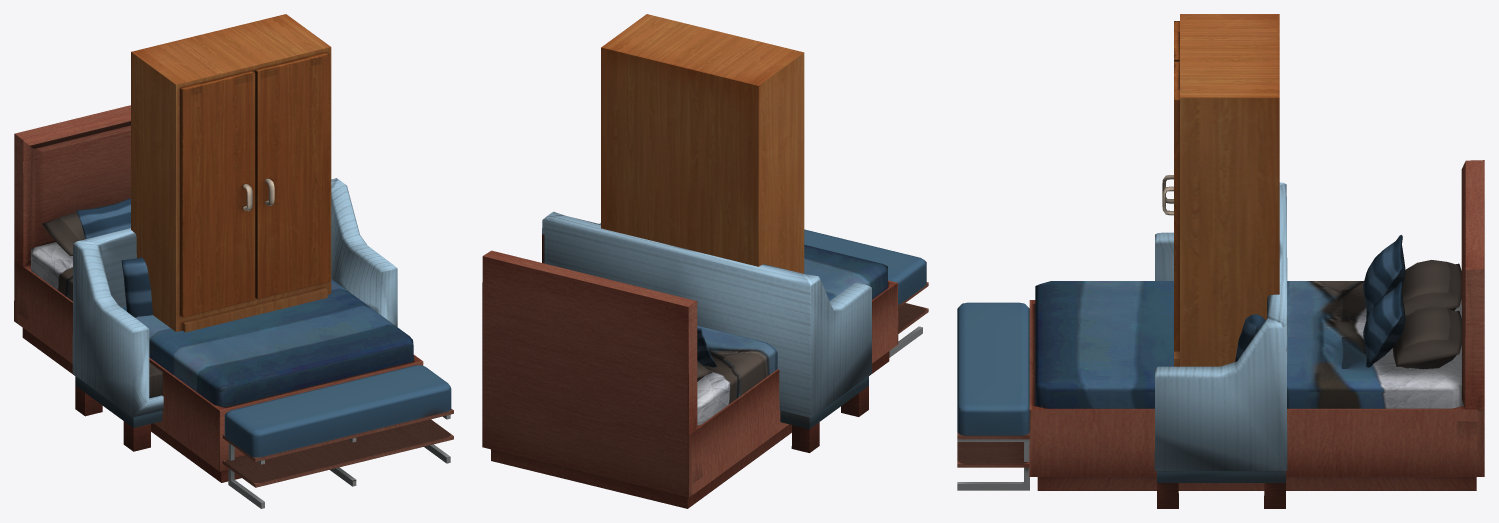
Rendered from fbx_furniiture_set02.fbx.
The picture shows the model from 3 angles, left to right: view 1: azimuth 30°, elevation 25°; view 2: azimuth 150°, elevation 25°; view 3: azimuth 270°, elevation 25°; orthographic projection. The views are drawn at different scales.
Visible parts, largest first — view 1: furniture_bedRoom_bed_set02, furniture_bedRoom_sofa_set02, cabinetBased, cabinetDoor_07, cabinetDoor_01, cabinetDoor_03; view 2: furniture_bedRoom_bed_set02, cabinetBased, furniture_bedRoom_sofa_set02; view 3: furniture_bedRoom_bed_set02, cabinetBased, furniture_bedRoom_sofa_set02, cabinetDoor_01.
Part boxes in pixels (x1,y1,x2,y2): furniture_bedRoom_bed_set02: (14, 105, 453, 508); furniture_bedRoom_sofa_set02: (72, 178, 397, 451); cabinetBased: (131, 14, 331, 331); cabinetDoor_07: (180, 70, 255, 317); cabinetDoor_01: (255, 52, 329, 299); cabinetDoor_03: (182, 288, 327, 332); furniture_bedRoom_bed_set02: (482, 229, 928, 508); cabinetBased: (601, 14, 804, 273); furniture_bedRoom_sofa_set02: (542, 211, 871, 452); furniture_bedRoom_bed_set02: (957, 160, 1484, 490); cabinetBased: (1180, 14, 1279, 366); furniture_bedRoom_sofa_set02: (1154, 182, 1287, 508); cabinetDoor_01: (1162, 61, 1179, 351).
Bounding box in the file's own units: 68.4 × 85.02 × 106.
